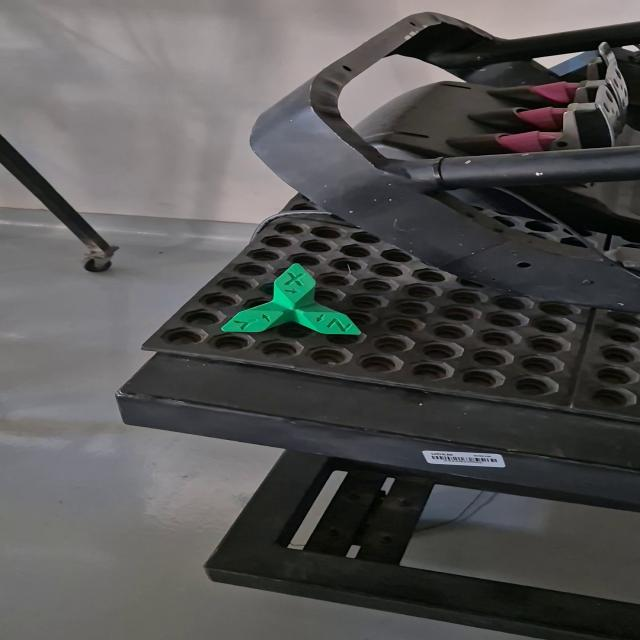objects: (219, 263, 363, 335)
